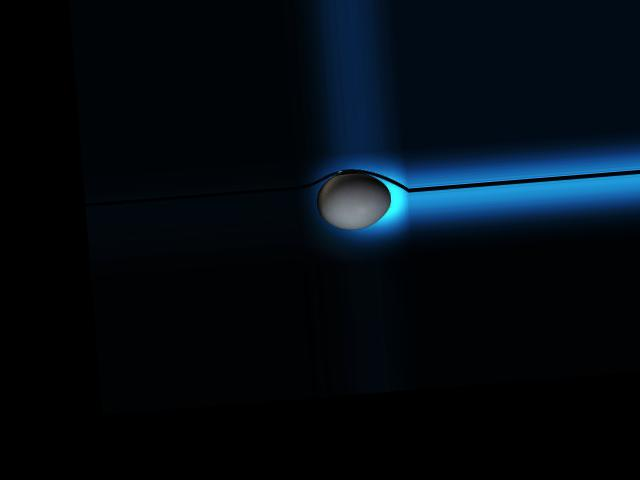egg: (314, 169, 392, 231)
